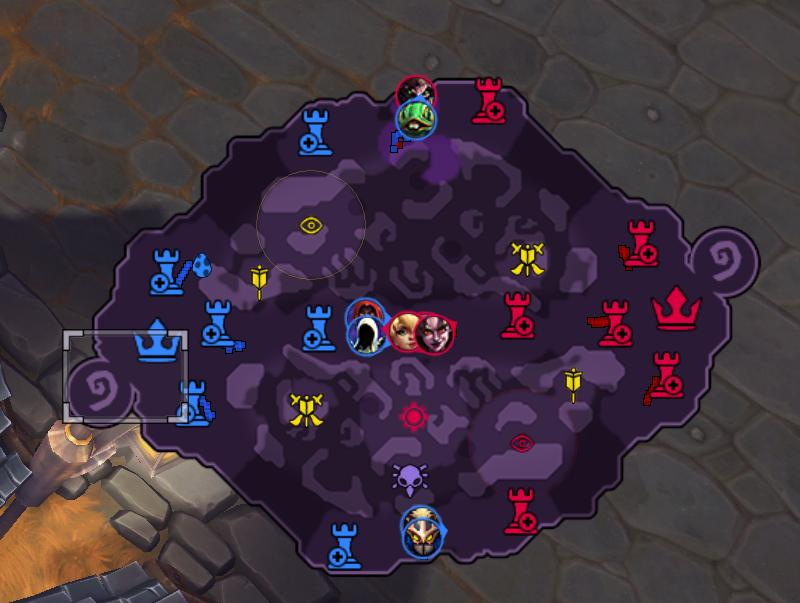blue player: (398, 504, 446, 561), (394, 96, 438, 142), (348, 314, 388, 357)
red player: (410, 311, 457, 356), (395, 74, 437, 110), (388, 312, 421, 351)
